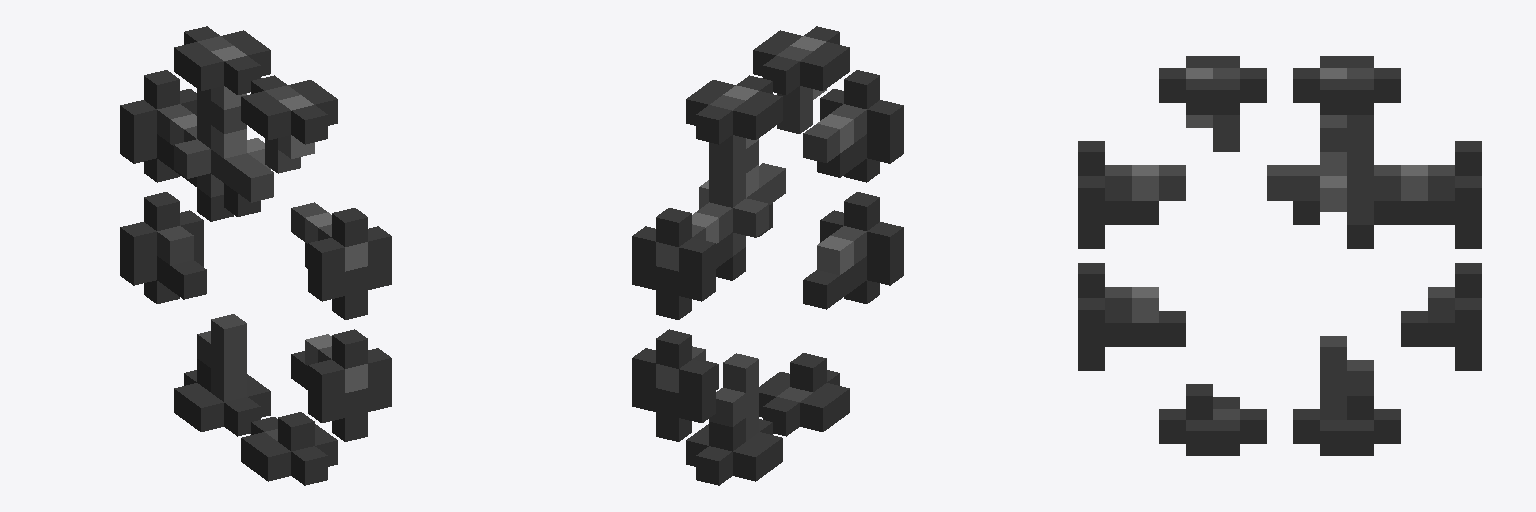
3 renders of one model, left to right at view 1: azimuth 30°, elevation 25°; view 2: azimuth 150°, elevation 25°; view 3: azimuth 270°, elevation 25°, orthographic.
Parts seen in each view (by area): view 1: MetalBarsBroken; view 2: MetalBarsBroken; view 3: MetalBarsBroken.
Part boxes in pixels (left/top/right/bottom): MetalBarsBroken: left=120, top=26, right=391, bottom=485; MetalBarsBroken: left=632, top=26, right=903, bottom=485; MetalBarsBroken: left=1078, top=56, right=1481, bottom=455.
Size of the model in its own units: 3 by 15 by 15.
Materials: 1 (1 with a texture image).